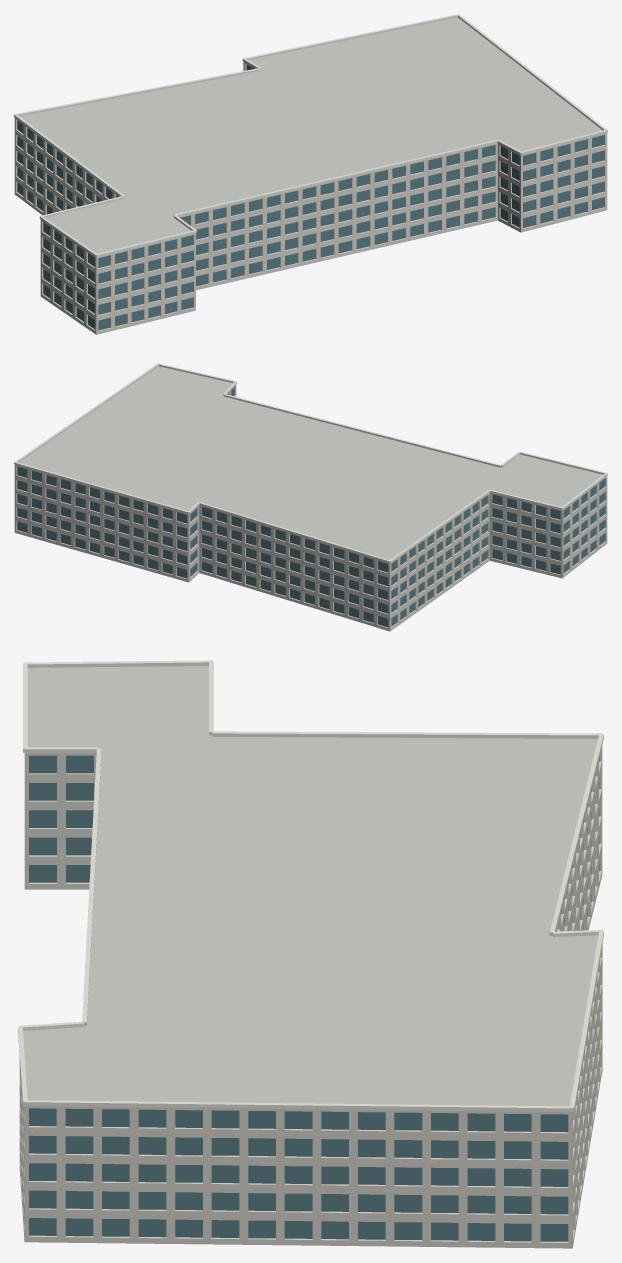
Rendered from sb_1556523856.far.glb.
3 views of the same model, one above another, from view 1: azimuth 30°, elevation 25°; view 2: azimuth 150°, elevation 25°; view 3: azimuth 270°, elevation 25° (orthographic). The views are drawn at different scales.
Visible parts, largest first — view 1: roof, wall, glass, trim; view 2: roof, wall, glass, trim; view 3: roof, wall, glass, trim.
Boxes of the visible parts, left/top/right/bottom form: roof: left=20, top=17, right=602, bottom=253; wall: left=14, top=61, right=607, bottom=334; glass: left=17, top=65, right=604, bottom=330; trim: left=14, top=14, right=607, bottom=257; roof: left=19, top=366, right=602, bottom=559; wall: left=14, top=385, right=607, bottom=631; glass: left=17, top=387, right=604, bottom=627; trim: left=14, top=363, right=607, bottom=563; roof: left=23, top=666, right=598, bottom=1106; wall: left=19, top=745, right=602, bottom=1248; glass: left=29, top=755, right=599, bottom=1241; trim: left=18, top=660, right=603, bottom=1112.
Bounding box in the file's own units: 111 × 16.34 × 61.63.
